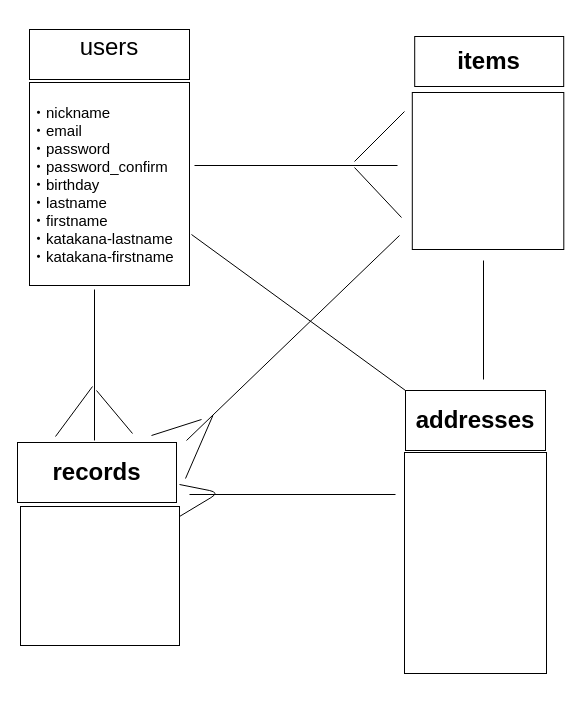
The diagram is 582 pixels wide and 714 high, and some of its shapes have lost their labels. The shapes that lost their labels are listed below. From the top down, each one's centre as x and y in pixels, then its label:
At pixel 487 171: "・item ・item-info ・categor ・item-status ・burden-charges ・days-ship ・fee".
At pixel 100 576: "・user-name ・purchase-date ・items-name".
At pixel 475 563: "・address-number ・prefecture ・city ・place ・building-name ・phone-number".
